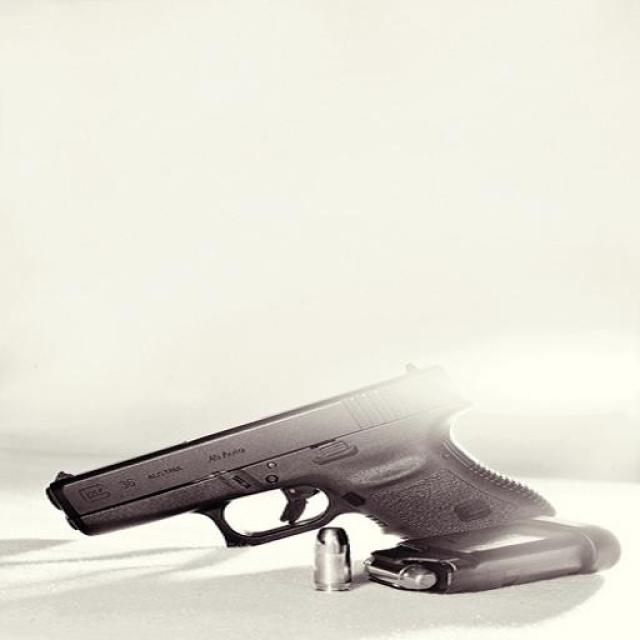pistol: (18, 361, 556, 549)
